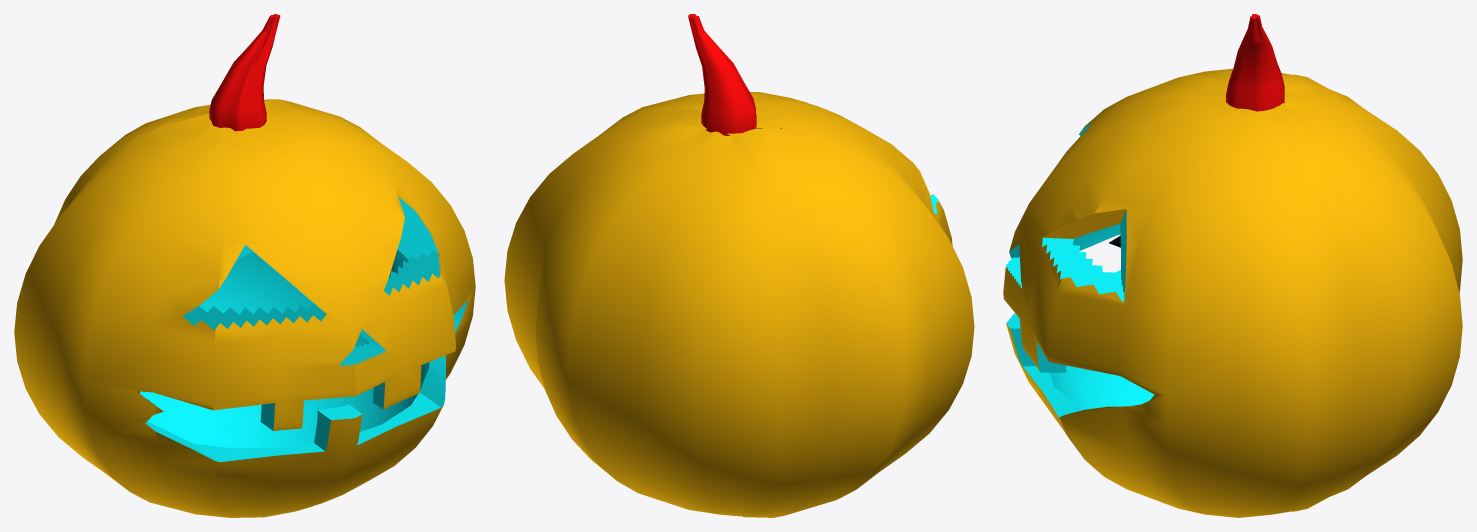
3 renders of one model, left to right at view 1: azimuth 30°, elevation 25°; view 2: azimuth 150°, elevation 25°; view 3: azimuth 270°, elevation 25°, orthographic. The views are drawn at different scales.
Parts seen in each view (by area): view 1: polySurface16 (×3); view 2: polySurface16 (×2); view 3: polySurface16 (×3).
Part boxes in pixels (<box>): polySurface16 (×3): <box>14,14,475,517</box>; polySurface16 (×2): <box>504,14,974,517</box>; polySurface16 (×3): <box>1003,14,1462,517</box>.
Size of the model in its own units: 1.77 by 2 by 1.69.
